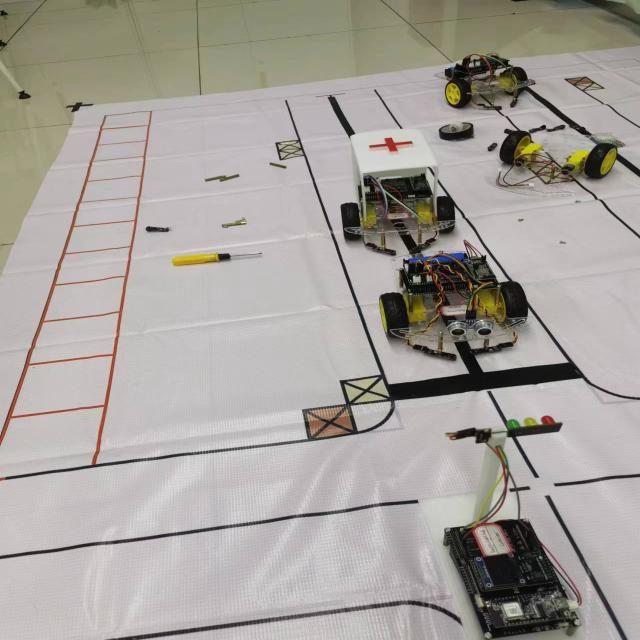RedCross: (364, 134, 420, 157)
